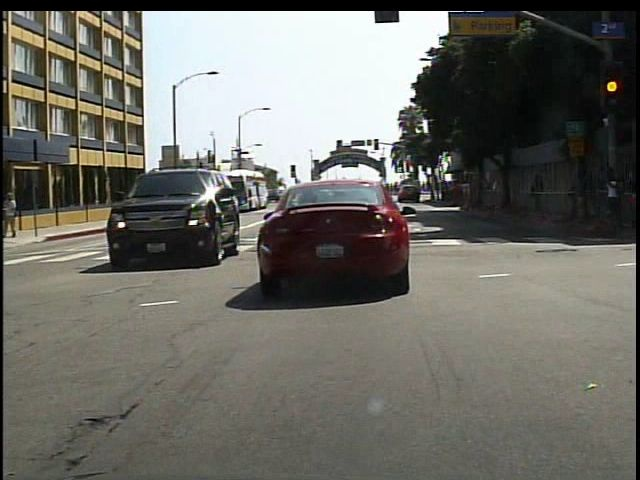person: (6, 190, 25, 240)
